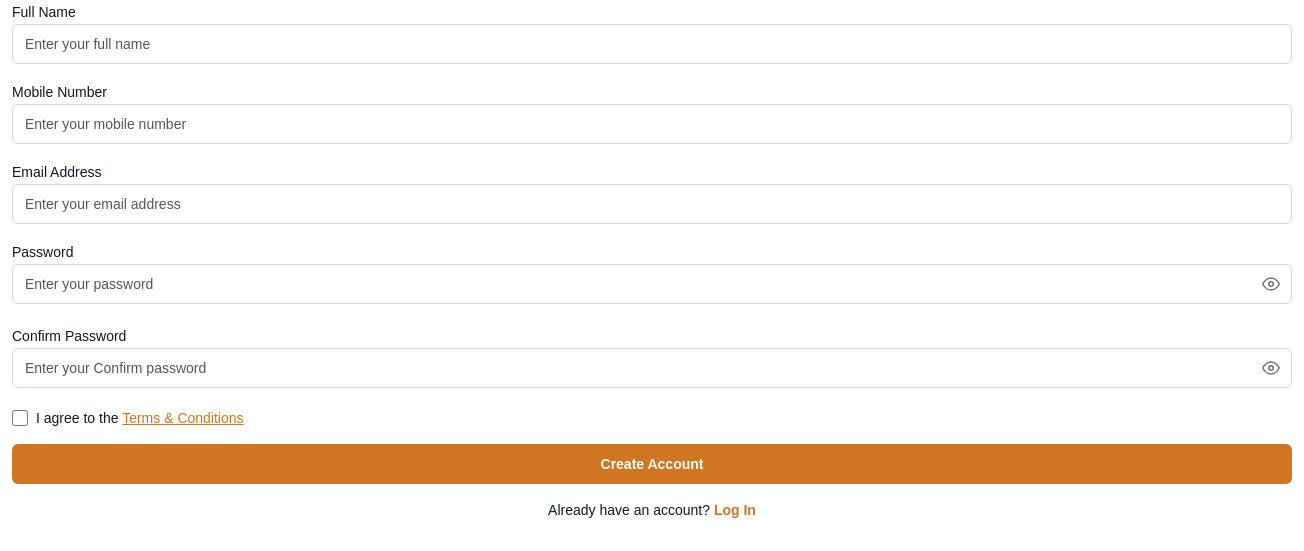
Test: RegisterForm › shows password mismatch error
Step 1. Type "Test User" into the field with placeholder "Enter your full name" → point(652, 44), box 12,24 -> 1292,64
Step 2. Type "9812345678" into the field with placeholder "Enter your mobile number" → point(652, 124), box 12,104 -> 1292,144
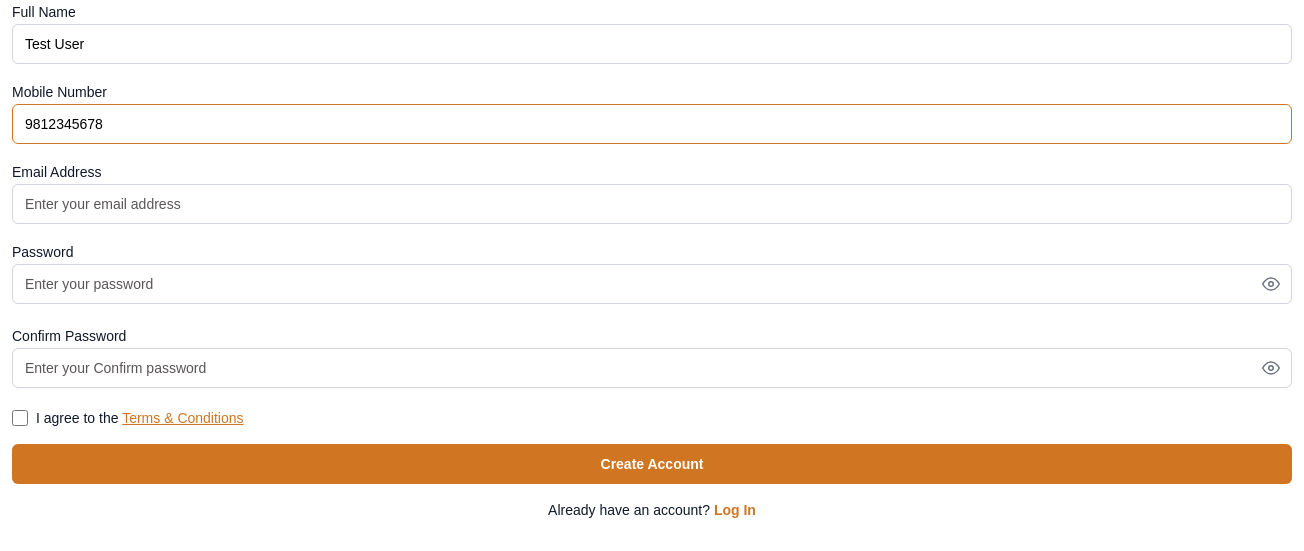
Step 3. Type "test@example.com" into the field with placeholder "Enter your email address" → point(652, 204), box 12,184 -> 1292,224
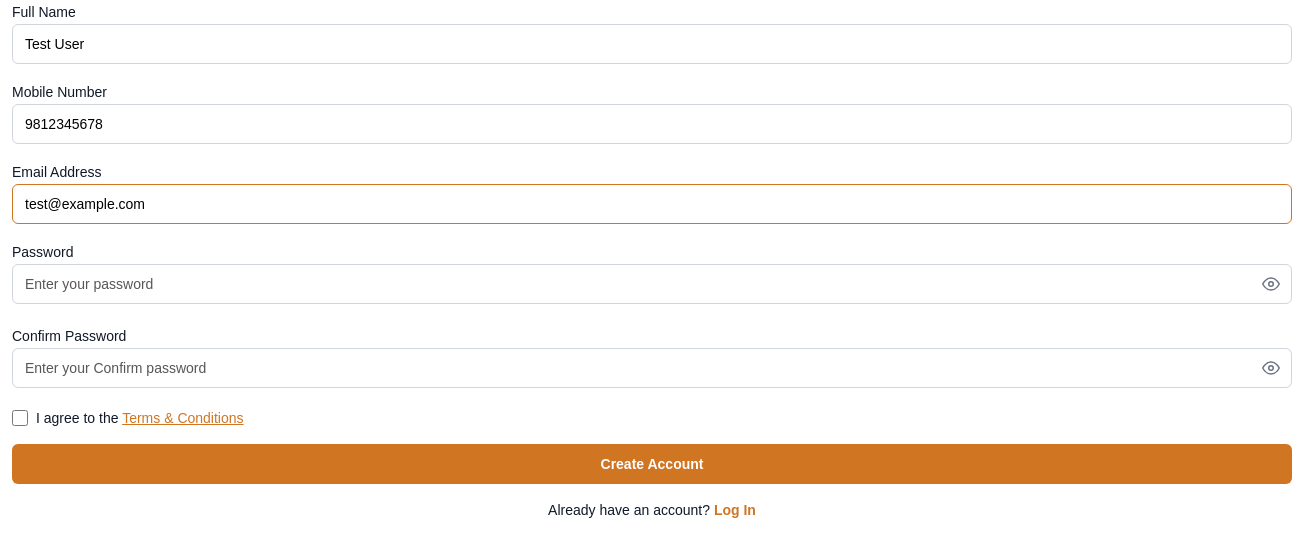
Step 4. Type "secret1" into the password field with placeholder "Enter your password" → point(652, 284), box 12,264 -> 1292,304
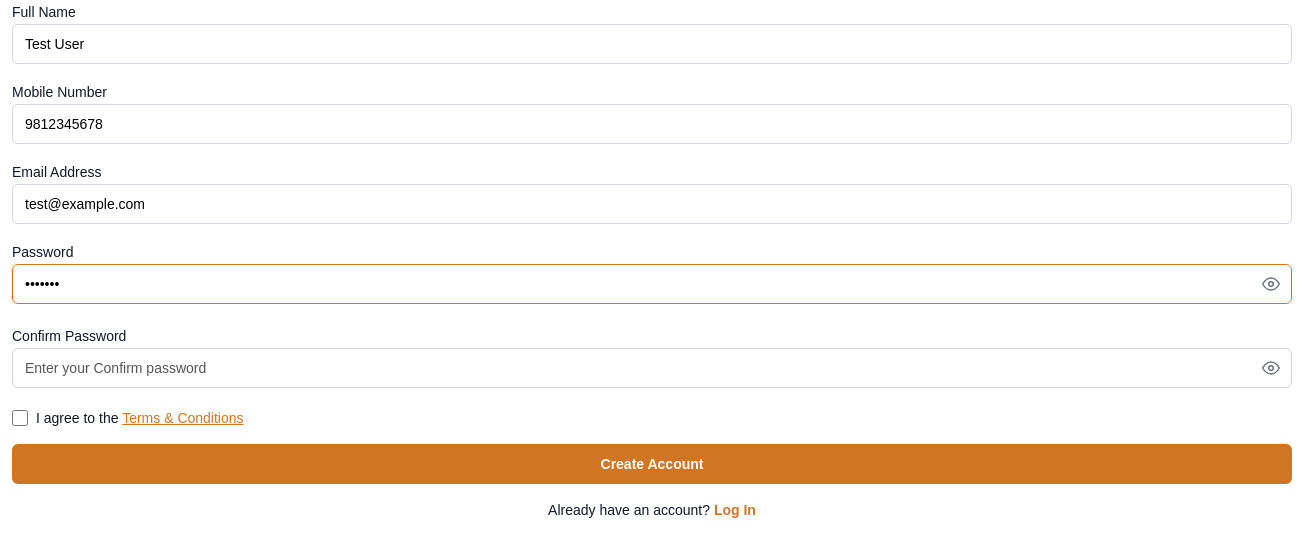
Step 5. Type "secret2" into the password field with placeholder "Enter your Confirm password" → point(652, 368), box 12,348 -> 1292,388
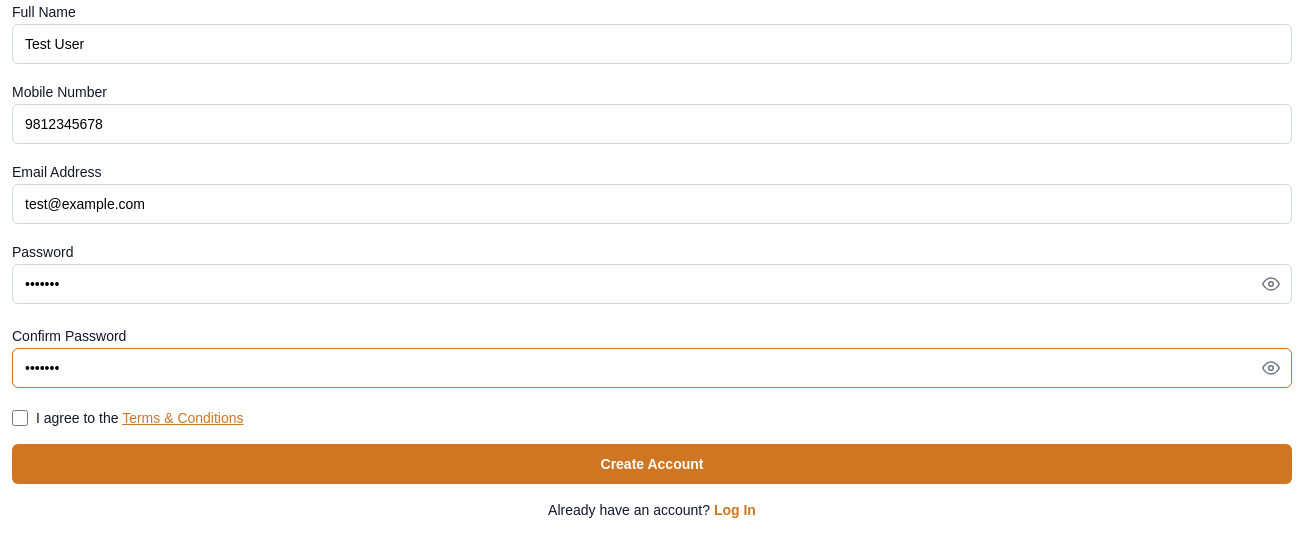
Step 6. Click the checkbox labelled "I agree to the Terms & Conditions" → point(20, 418), box 12,410 -> 28,426
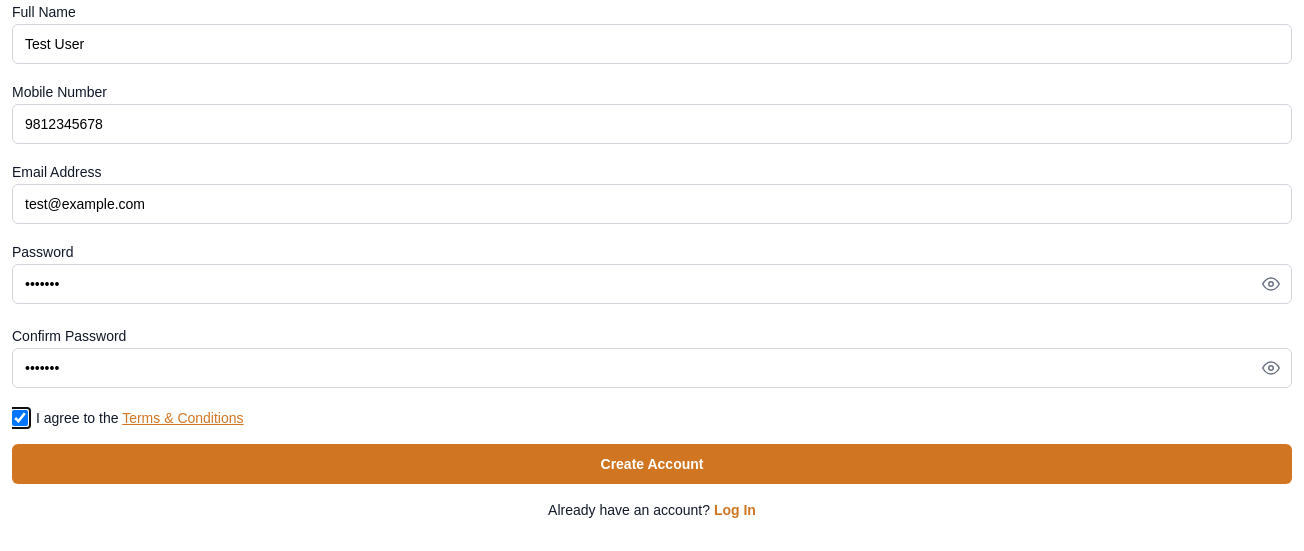
Step 7. Click the button "Create Account" → point(652, 464), box 12,444 -> 1292,484
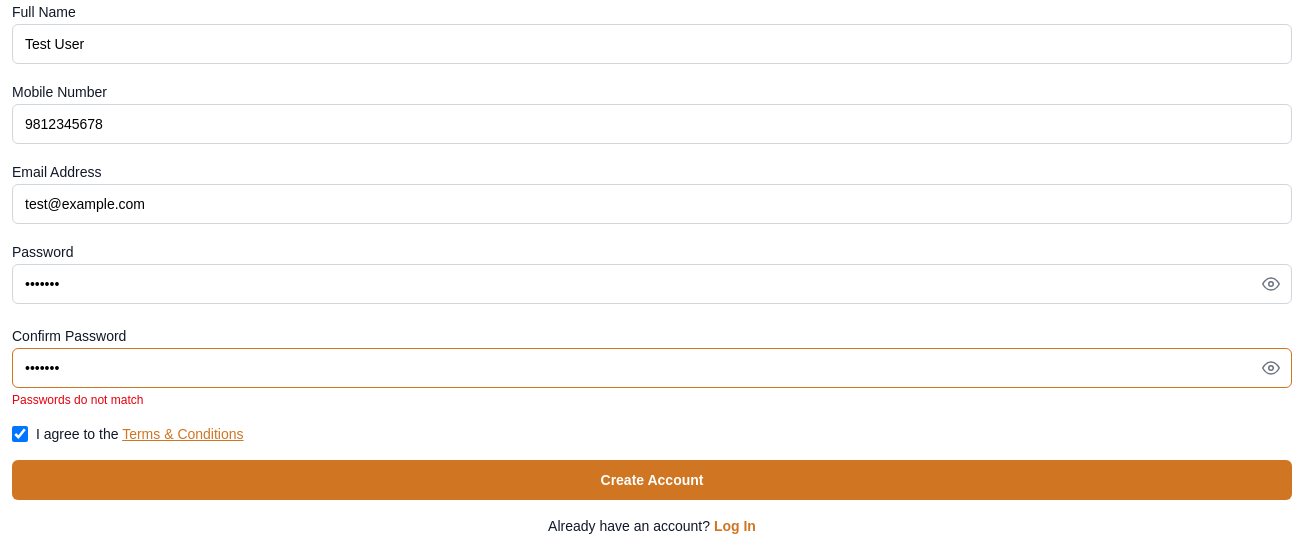
expect the text "Passwords do not match" is shown: met, box 12,393 -> 143,407
